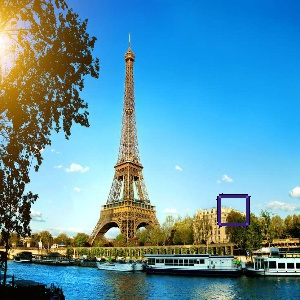square: (217, 194, 250, 227)
